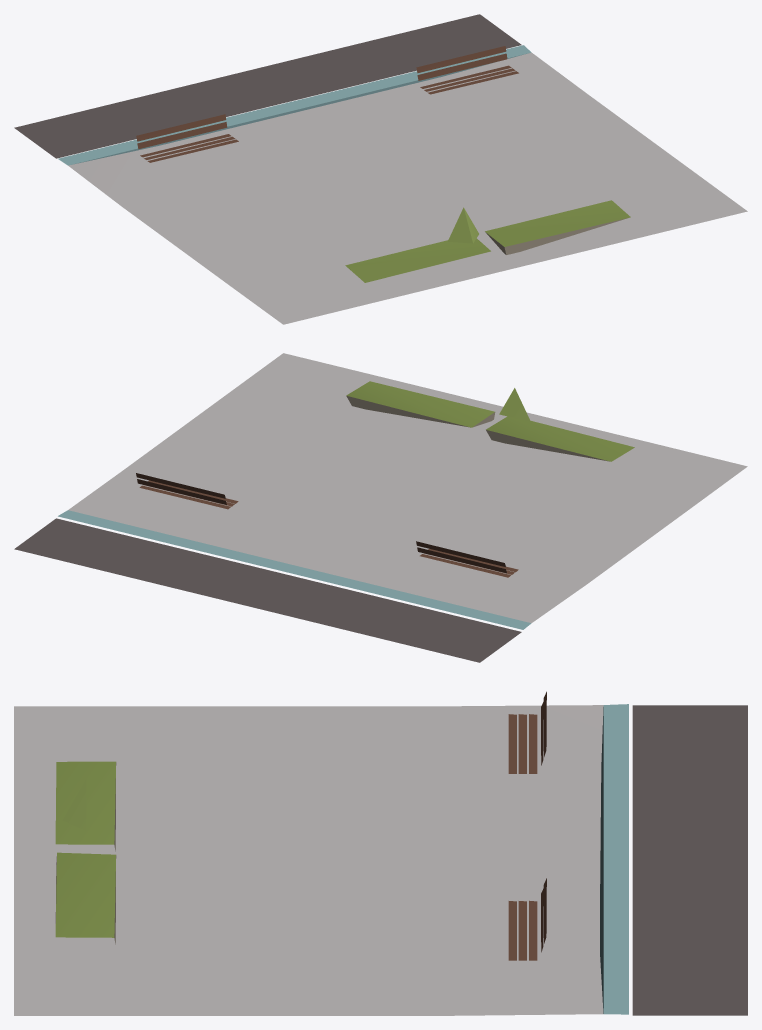
File: QmTo2D2RMR1DH98Vmwnq7bKFuZupT8xZH7NZBnQ898EnM5_lod2.fbx
3 renders of one model, top to bottom at view 1: azimuth 30°, elevation 25°; view 2: azimuth 150°, elevation 25°; view 3: azimuth 270°, elevation 25°, orthographic. The views are drawn at different scales.
Visible parts, largest first — view 1: Entity_512; view 2: Entity_512; view 3: Entity_512.
Boxes of the visible parts, left/top/right/bottom form: Entity_512: left=14, top=14, right=747, bottom=324; Entity_512: left=14, top=353, right=747, bottom=662; Entity_512: left=14, top=691, right=747, bottom=1015.
Bounding box in the file's own units: 15930 × 1591 × 15907.
Materials: 1 (1 with a texture image).
